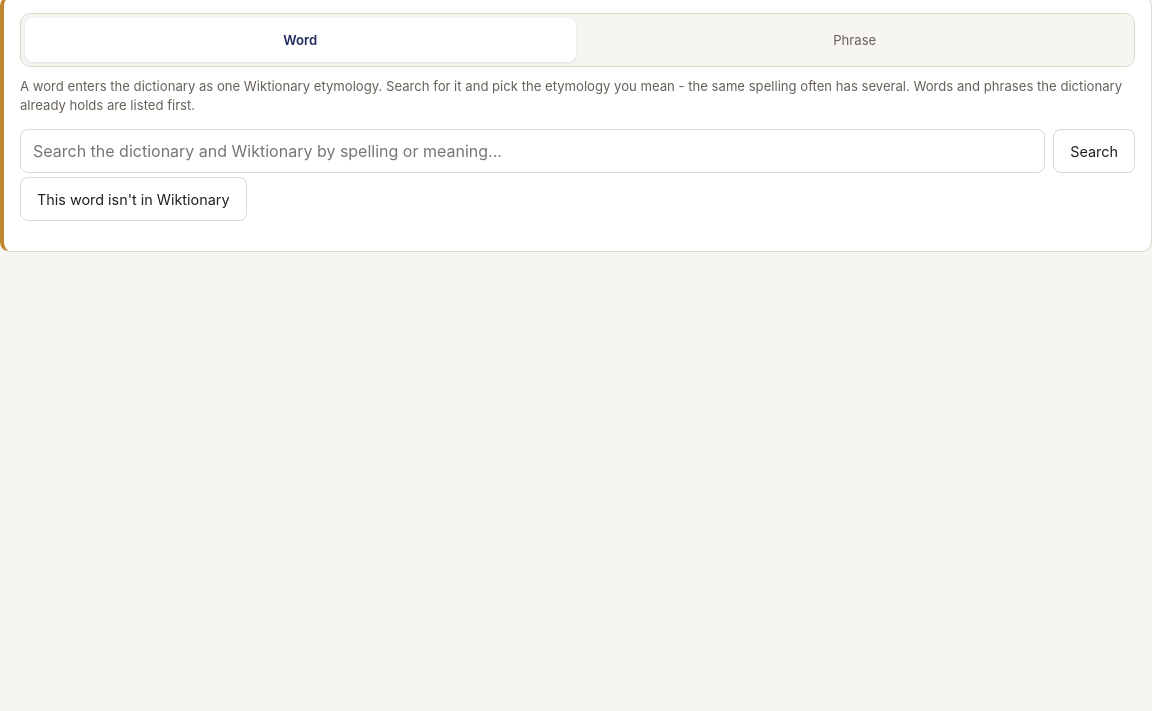
Scenario: AddWord - Word tab › keeps a parent page's derived-terms listing apart from the parts, says where it came from, and lets it be added
Click the button "Search" at [1094, 151], box [1053,129,1135,173]
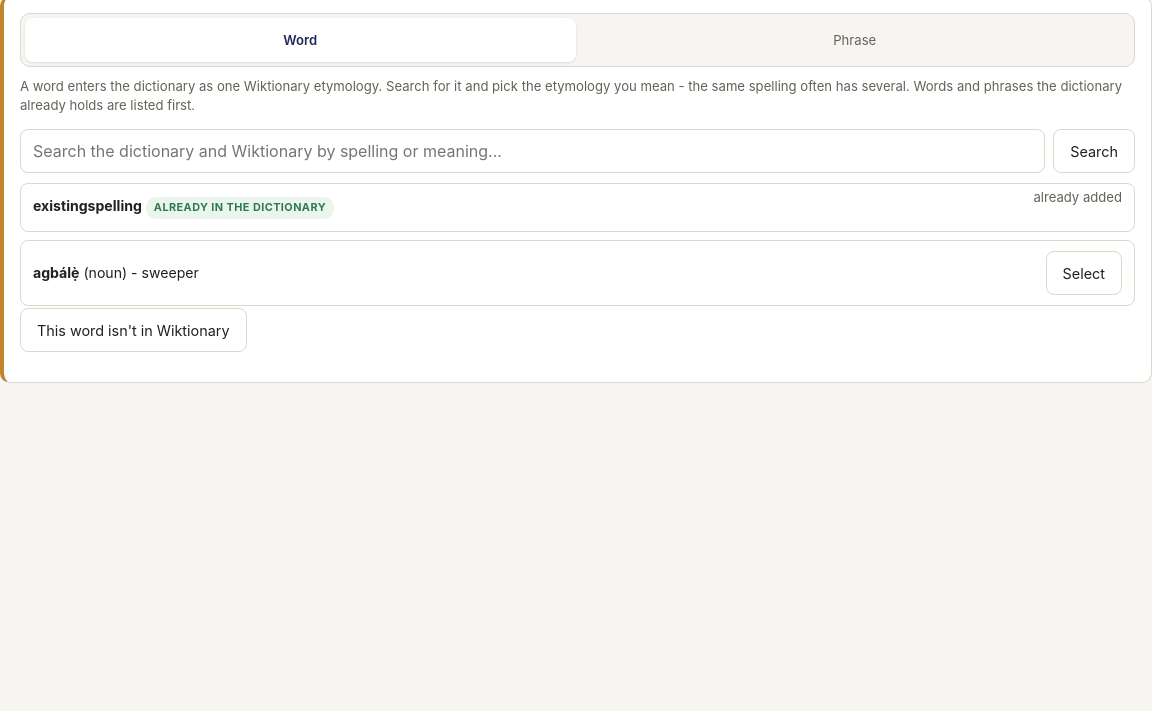
Result: the text "agbálẹ̀" is shown at [33,264,80,281]
Click the button "Select" at [1084, 273], box [1046,251,1122,295]
(page scrolled)
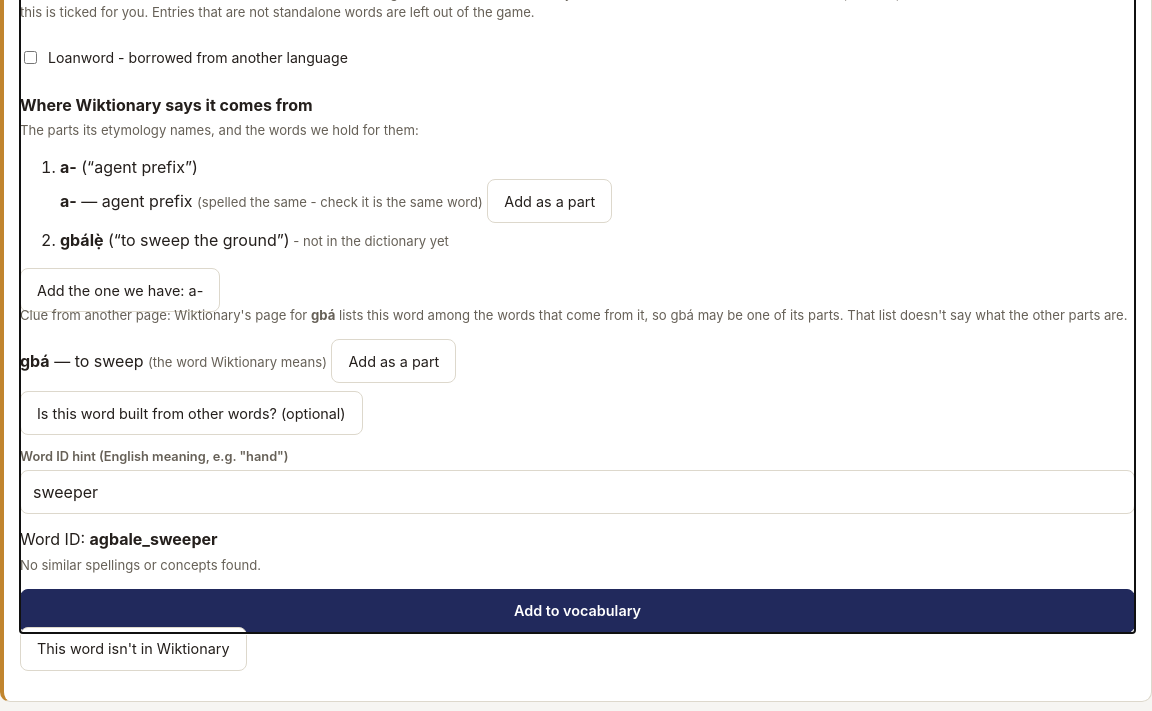
Result: the element named "Clue from another Wiktionary page" shows "Wiktionary's page for gbá lists this word among the words that come from it" at [20,306,1135,383]
Result: the button "Add the one we have: a-" is shown at [20,268,220,312]
Click the button with aria-label "Add gbá as a part: to sweep" at [394, 361], box [331,339,456,383]
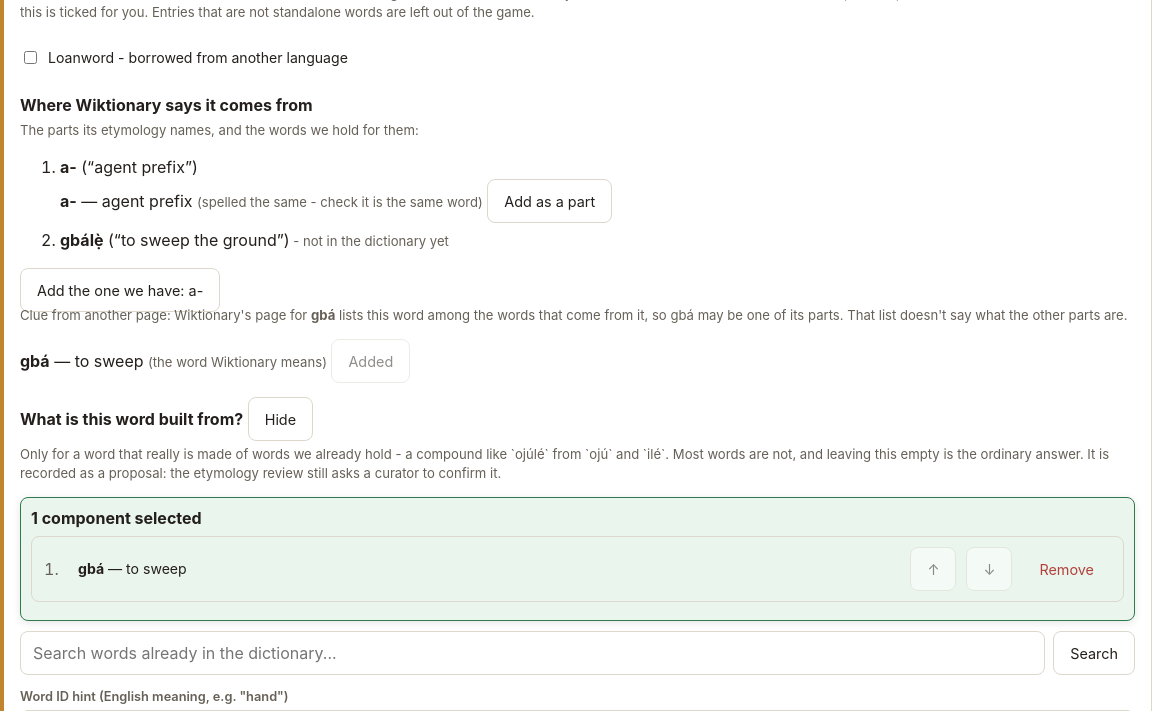
Result: the list named "Word components" shows "gbá — to sweep" at [31,536,1124,602]
